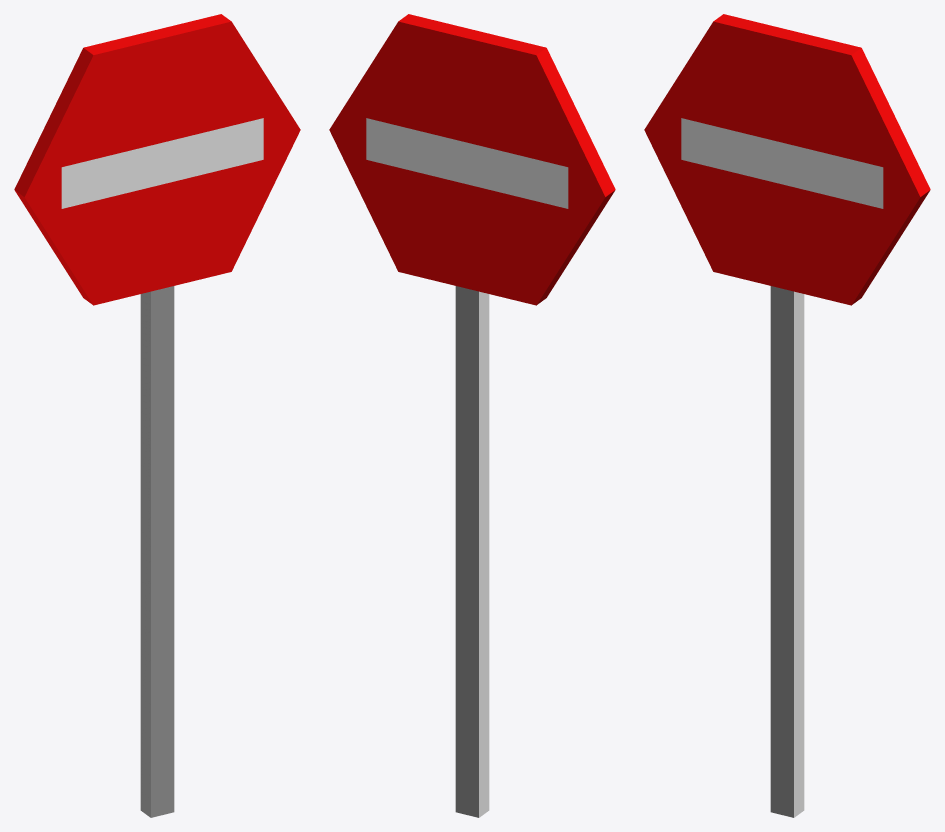
File: WarningSignA.fbx
The picture shows the model from 3 angles, left to right: view 1: azimuth 30°, elevation 25°; view 2: azimuth 150°, elevation 25°; view 3: azimuth 330°, elevation 25°; orthographic projection.
Parts seen in each view (by area): view 1: WarningSignA; view 2: WarningSignA; view 3: WarningSignA.
Part boxes in pixels (x1,y1,x2,y2): WarningSignA: (14, 14, 300, 817); WarningSignA: (329, 14, 615, 817); WarningSignA: (644, 14, 930, 817).
Bounding box in the file's own units: 64.83 × 174 × 4.19.
1 material, 1 textured.
